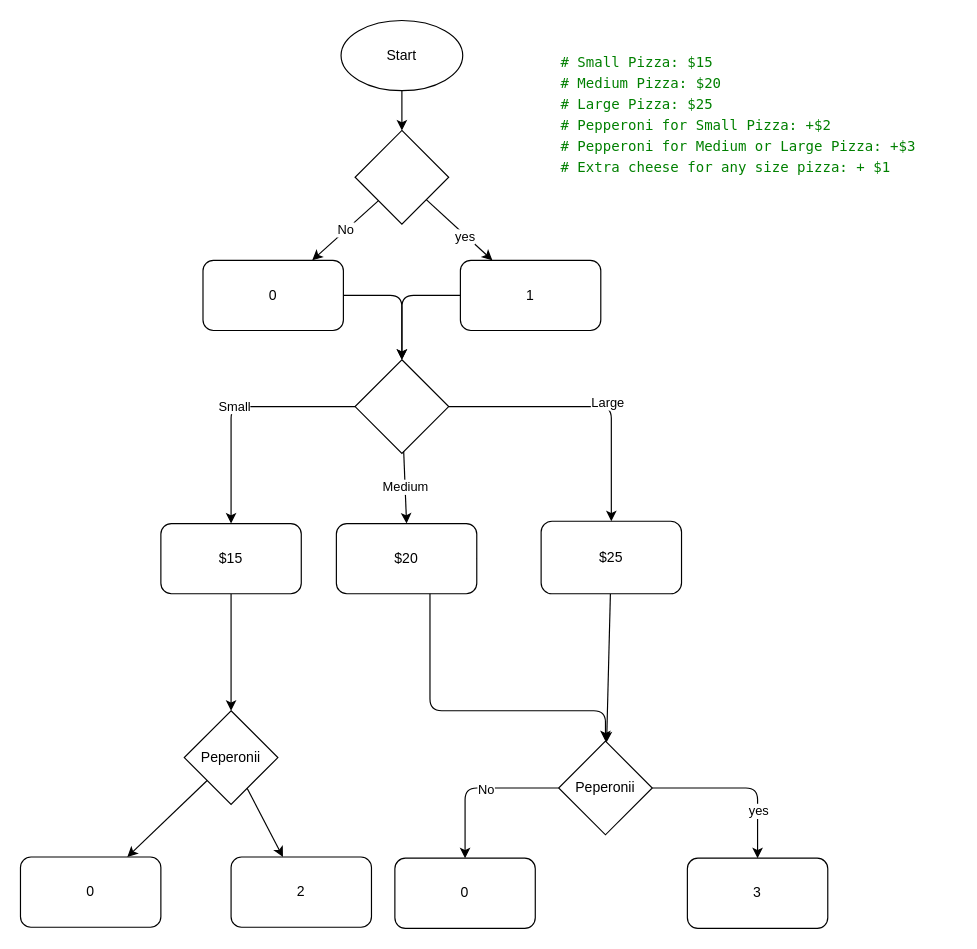
This 977x949 diagram has some shape labels left out. The centre of each missing label's shape, as x and y in pixels:
Extra Chees: the point at 401,176
Size ?: the point at 401,406
